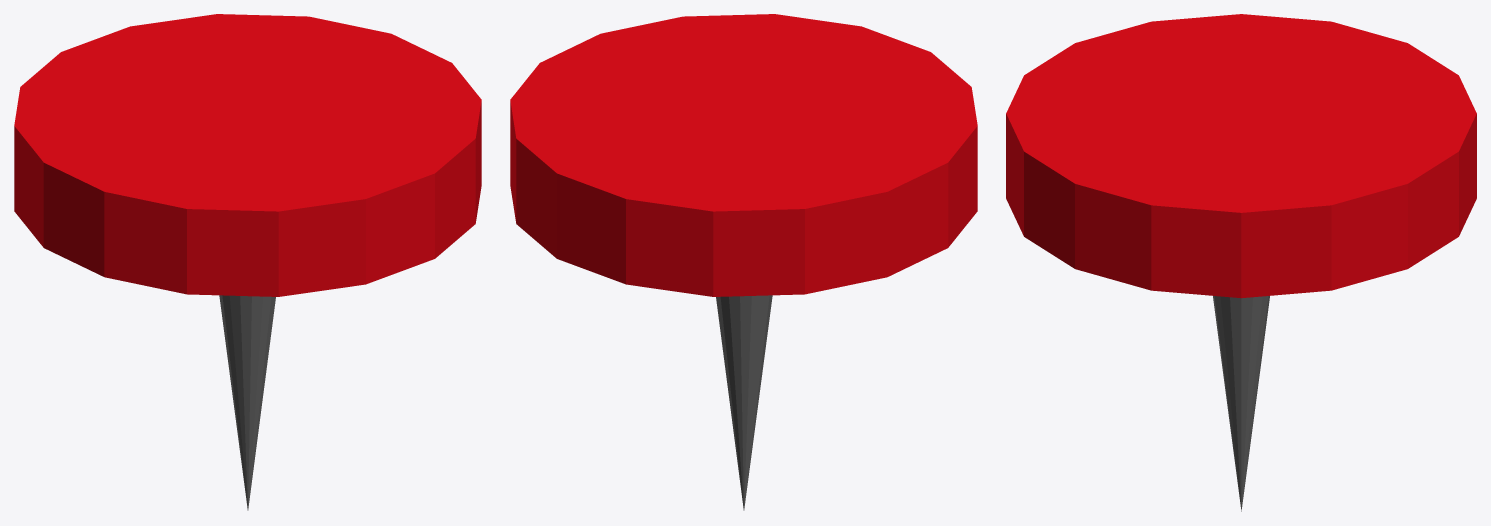
Rendered from cork_knob.fbx.
3 renders of one model, left to right at view 1: azimuth 30°, elevation 25°; view 2: azimuth 150°, elevation 25°; view 3: azimuth 270°, elevation 25°, orthographic.
Parts seen in each view (by area): view 1: Cylinder; view 2: Cylinder; view 3: Cylinder.
Boxes of the visible parts, <box> form: Cylinder: <box>14,14,481,510</box>; Cylinder: <box>510,14,977,510</box>; Cylinder: <box>1006,14,1476,511</box>.
Size of the model in its own units: 5 by 4.67 by 5.
